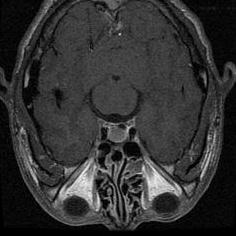Tumour-Pituitary: (94, 117, 142, 146)
